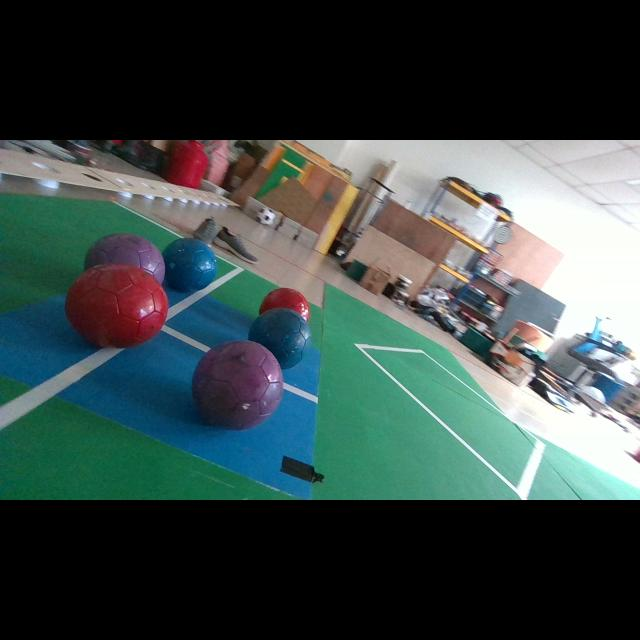B: (249, 308, 311, 369), (162, 239, 218, 292)
P: (192, 340, 284, 430), (84, 234, 165, 284)
R: (65, 264, 168, 348), (259, 288, 309, 321)
